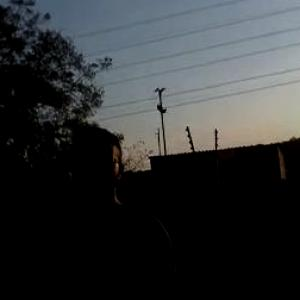follow: (41, 124, 190, 299)
